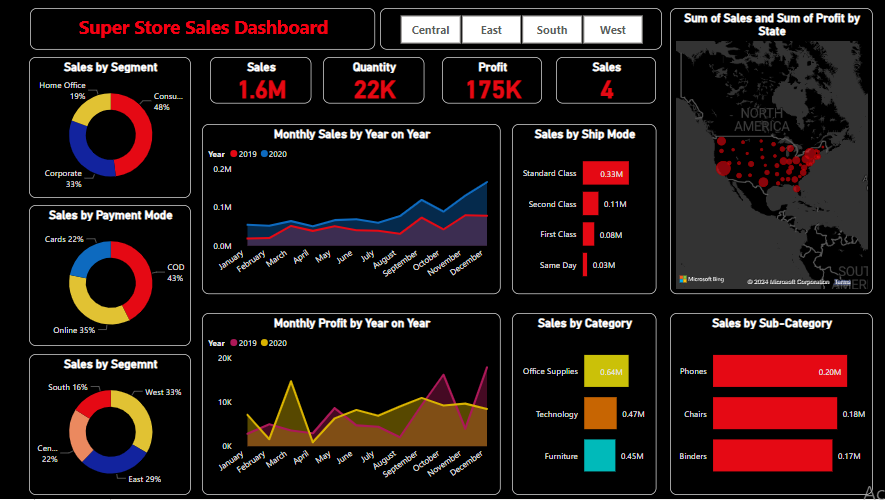

The page's visual inventory and layout, read from the dashboard file:
{"tool":"powerbi","page":{"name":"Page 1","canvas":[1280,720],"ordinal":0},"visuals":[{"type":"clusteredBarChart","title":"Sales by Category","fields":{"Category":["SuperStore_Sales_Dataset.Category"],"Y":["Sum(SuperStore_Sales_Dataset.Sales)"]},"box":[740.8,451.9,208.3,262],"z":0},{"type":"clusteredBarChart","title":"Sales by Sub-Category","fields":{"Category":["SuperStore_Sales_Dataset.Sub-Category"],"Y":["Sum(SuperStore_Sales_Dataset.Sales)"]},"box":[967.6,451.9,292.3,262],"z":1000},{"type":"clusteredBarChart","title":"Sales by Ship Mode","fields":{"Category":["SuperStore_Sales_Dataset.Ship Mode"],"Y":["Sum(SuperStore_Sales_Dataset.Sales)"]},"box":[740.8,179.7,208.3,245.2],"z":2000},{"type":"areaChart","title":"Monthly Sales by Year on Year","fields":{"Y":["Sum(SuperStore_Sales_Dataset.Sales)"],"Category":["SuperStore_Sales_Dataset.Order Date.Variation.Date Hierarchy.Month","SuperStore_Sales_Dataset.Order Date.Variation.Date Hierarchy.Day"],"Series":["SuperStore_Sales_Dataset.Order Date.Variation.Date Hierarchy.Year"]},"box":[294,179.7,430,245.2],"z":3000},{"type":"areaChart","title":"Monthly Profit by Year on Year","fields":{"Category":["SuperStore_Sales_Dataset.Order Date.Variation.Date Hierarchy.Month"],"Series":["SuperStore_Sales_Dataset.Order Date.Variation.Date Hierarchy.Year"],"Y":["Sum(SuperStore_Sales_Dataset.Profit)"]},"box":[294,451.9,430,262],"z":4000},{"type":"map","fields":{"Category":["SuperStore_Sales_Dataset.State"],"Size":["Sum(SuperStore_Sales_Dataset.Sales)"]},"box":[967.7,13,292.3,411.8],"z":5000},{"type":"donutChart","title":"Sales by Segment","fields":{"Category":["SuperStore_Sales_Dataset.Segment"],"Y":["Sum(SuperStore_Sales_Dataset.Sales)"]},"box":[45.4,84,233.5,203.3],"z":6000},{"type":"donutChart","title":"Sales by Payment Mode","fields":{"Category":["SuperStore_Sales_Dataset.Payment Mode"],"Y":["Sum(SuperStore_Sales_Dataset.Sales)"]},"box":[45.4,297.3,233.5,203.3],"z":7000},{"type":"slicer","fields":{"Values":["SuperStore_Sales_Dataset.Region"]},"box":[550.1,13,406.1,60.5],"z":8000},{"type":"textbox","box":[46.1,13,496.8,60.5],"z":9000},{"type":"card","title":"Sales","fields":{"Values":["Sum(SuperStore_Sales_Dataset.Sales)"]},"box":[305.7,84,146.1,67.2],"z":9001},{"type":"card","title":"Quantity","fields":{"Values":["Sum(SuperStore_Sales_Dataset.Quantity)"]},"box":[468.7,84,146.1,67.2],"z":9002},{"type":"card","title":"Profit","fields":{"Values":["Sum(SuperStore_Sales_Dataset.Profit)"]},"box":[640,84,144.5,67.2],"z":9003},{"type":"card","title":"Sales","fields":{"Values":["Avg(SuperStore_Sales_Dataset.AvgDelivery)"]},"box":[802.9,84,144.5,67.2],"z":9004},{"type":"donutChart","title":"Sales by Segemnt","fields":{"Category":["SuperStore_Sales_Dataset.Region"],"Y":["Sum(SuperStore_Sales_Dataset.Sales)"]},"box":[45.4,510.7,233.5,203.3],"z":9005}]}

Visuals, with their boxes in screenshot pixels (x1, y1, x2, y2), scaled from the page's 1280x720 canvas onto the 885x500 screenshot:
"Sales by Category" clusteredBarChart: [left=512, top=314, right=656, bottom=496]
"Sales by Sub-Category" clusteredBarChart: [left=669, top=314, right=871, bottom=496]
"Sales by Ship Mode" clusteredBarChart: [left=512, top=125, right=656, bottom=295]
"Monthly Sales by Year on Year" areaChart: [left=203, top=125, right=501, bottom=295]
"Monthly Profit by Year on Year" areaChart: [left=203, top=314, right=501, bottom=496]
map - SuperStore_Sales_Dataset.State x Sum(SuperStore_Sales_Dataset.Sales): [left=669, top=9, right=871, bottom=295]
"Sales by Segment" donutChart: [left=31, top=58, right=193, bottom=200]
"Sales by Payment Mode" donutChart: [left=31, top=206, right=193, bottom=348]
slicer - SuperStore_Sales_Dataset.Region: [left=380, top=9, right=661, bottom=51]
textbox: [left=32, top=9, right=375, bottom=51]
"Sales" card: [left=211, top=58, right=312, bottom=105]
"Quantity" card: [left=324, top=58, right=425, bottom=105]
"Profit" card: [left=442, top=58, right=542, bottom=105]
"Sales" card: [left=555, top=58, right=655, bottom=105]
"Sales by Segemnt" donutChart: [left=31, top=355, right=193, bottom=496]
